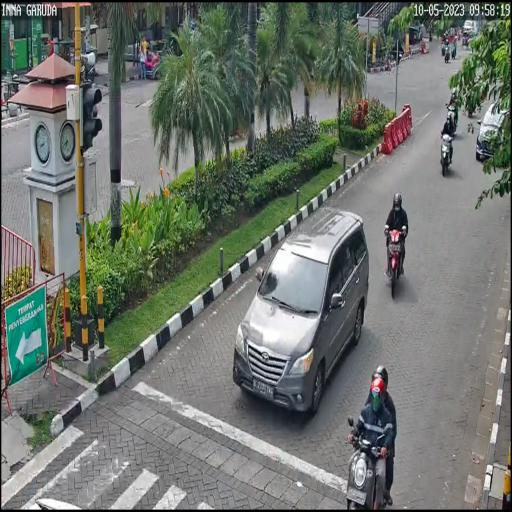mobil: (232, 201, 372, 419)
motor: (345, 410, 393, 512), (384, 223, 408, 297), (438, 128, 454, 176)
